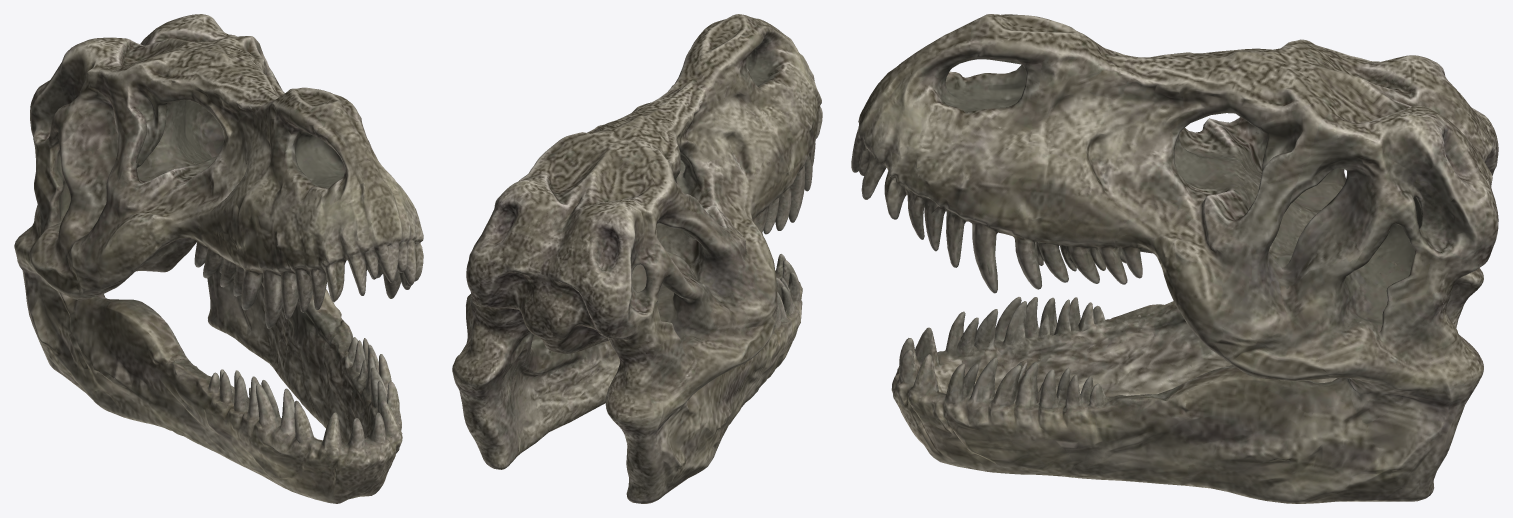
Rendered from trex_head.glb.
The picture shows the model from 3 angles, left to right: view 1: azimuth 30°, elevation 25°; view 2: azimuth 150°, elevation 25°; view 3: azimuth 270°, elevation 25°; orthographic projection. The views are drawn at different scales.
Parts seen in each view (by area): view 1: head; view 2: head; view 3: head.
Boxes of the visible parts, <box> form: head: <box>14,14,423,503</box>; head: <box>452,14,822,503</box>; head: <box>851,14,1498,503</box>.
Bounding box in the file's own units: 1.15 × 1.41 × 1.9.
Materials: 1 (1 with a texture image).
